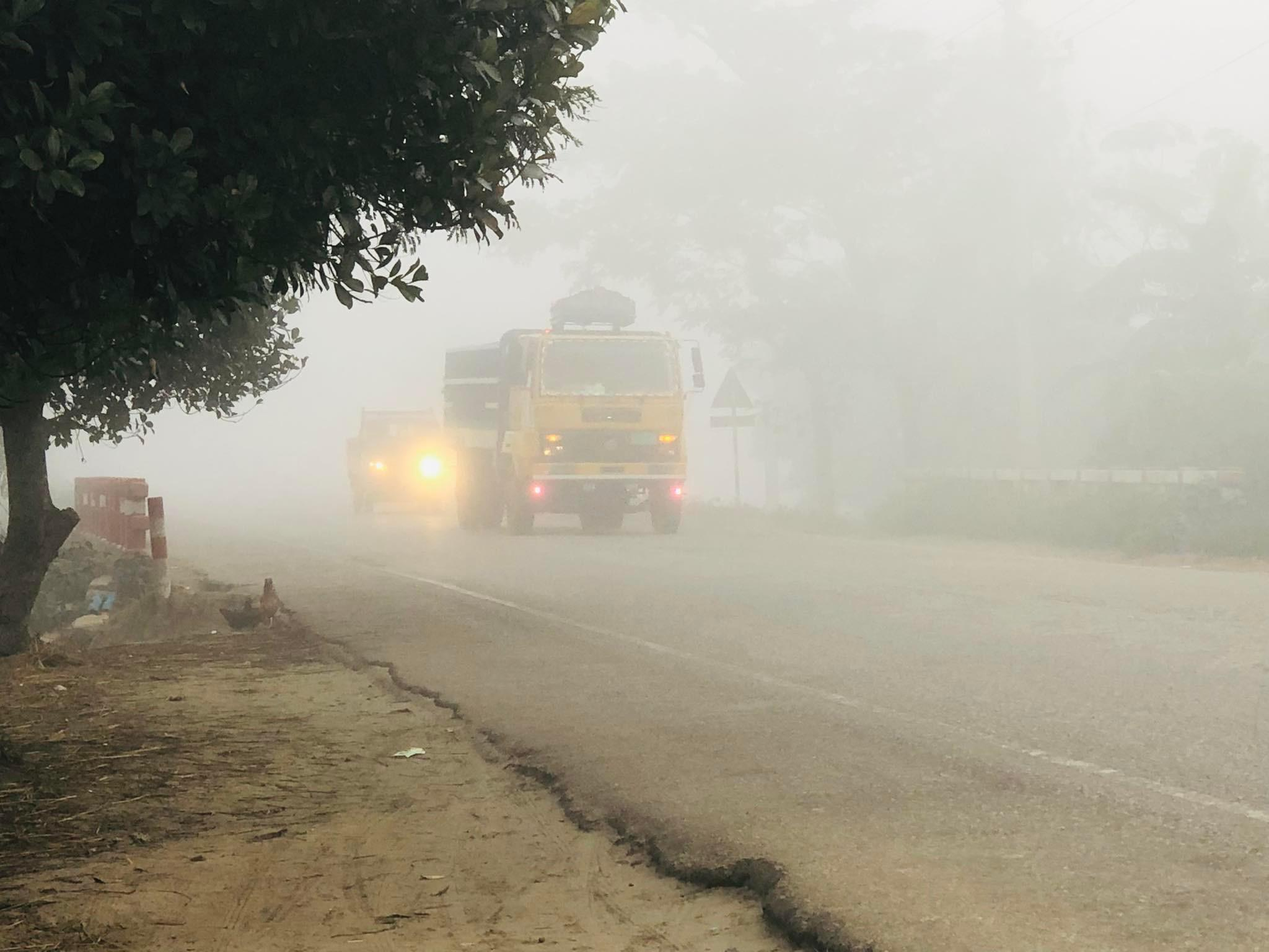Truck: (446, 306, 739, 560), (333, 400, 459, 518)
